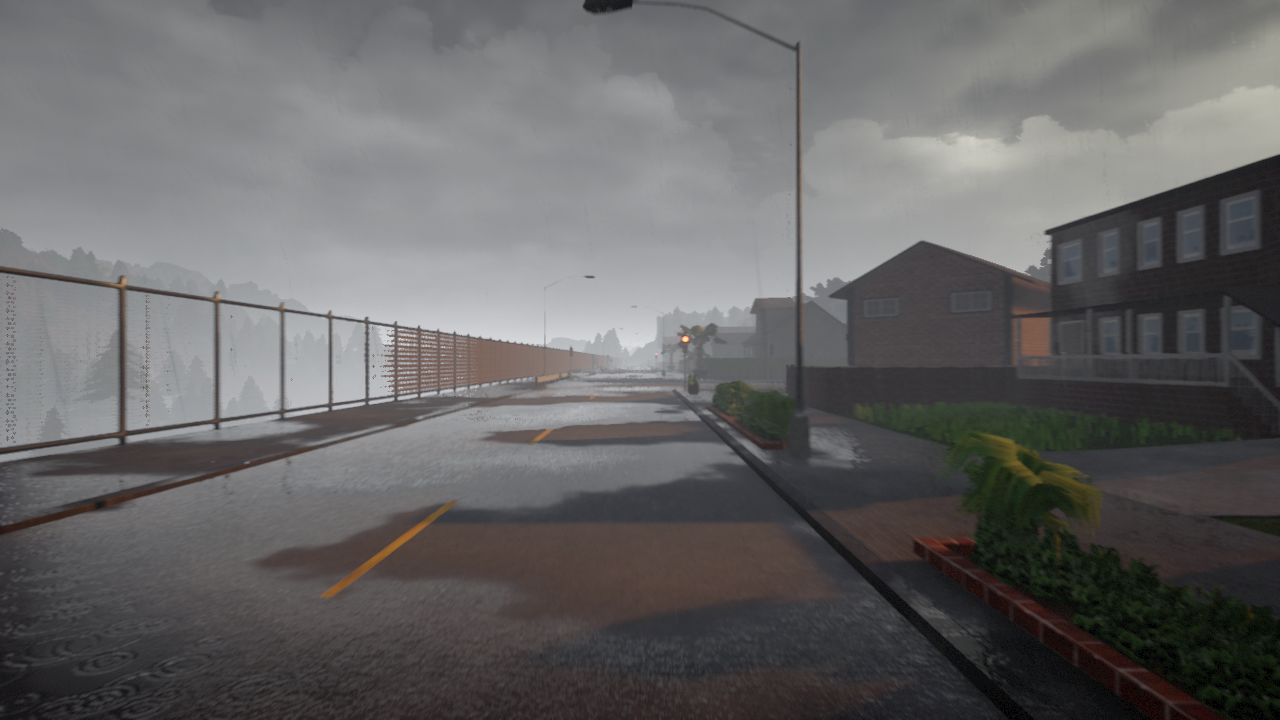red: (681, 334, 688, 353)
